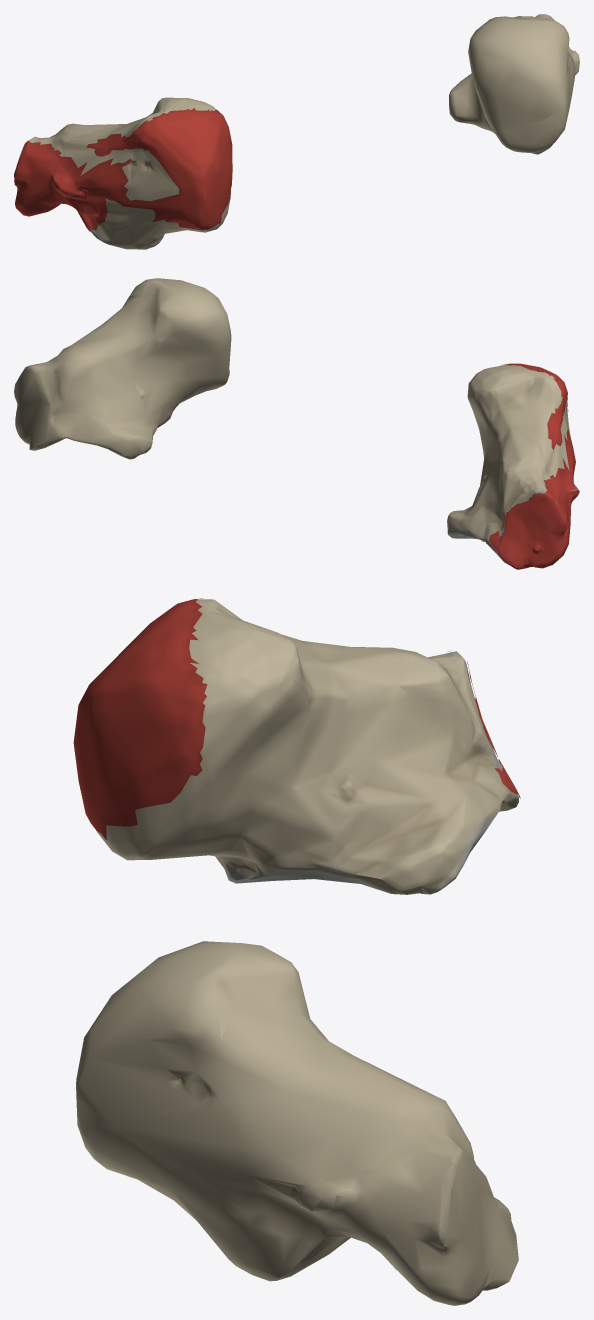
The model's file is calcaneus.glb.
3 views of the same model, one above another, from view 1: azimuth 30°, elevation 25°; view 2: azimuth 150°, elevation 25°; view 3: azimuth 270°, elevation 25° (orthographic). The views are drawn at different scales.
Parts seen in each view (by area): view 1: FJ3256, origo__tuber__m-abductor-hallucis, FJ3360, origo__dorsalis-trochlea-fibularis__m-extensor-digitorum-bre; view 2: FJ3256, FJ3360, origo__dorsalis-trochlea-fibularis__m-extensor-digitorum-bre, origo__tuber__m-abductor-hallucis; view 3: FJ3256, FJ3360, origo__tuber__m-abductor-hallucis, calcaneus__sustentaculum-tali.
Boxes of the visible parts, x1=… form: FJ3256: x1=449, y1=14, x2=579, y2=154; origo__tuber__m-abductor-hallucis: x1=80, y1=108, x2=232, y2=230; FJ3360: x1=28, y1=97, x2=215, y2=249; origo__dorsalis-trochlea-fibularis__m-extensor-digitorum-bre: x1=14, y1=141, x2=107, y2=231; FJ3256: x1=14, y1=278, x2=231, y2=459; FJ3360: x1=447, y1=365, x2=570, y2=566; origo__dorsalis-trochlea-fibularis__m-extensor-digitorum-bre: x1=482, y1=458, x2=579, y2=569; origo__tuber__m-abductor-hallucis: x1=501, y1=363, x2=575, y2=472; FJ3256: x1=76, y1=941, x2=518, y2=1305; FJ3360: x1=96, y1=599, x2=518, y2=886; origo__tuber__m-abductor-hallucis: x1=73, y1=598, x2=207, y2=840; calcaneus__sustentaculum-tali: x1=98, y1=769, x2=456, y2=894.
Bounding box in the file's own units: 202 × 49.42 × 70.56.
